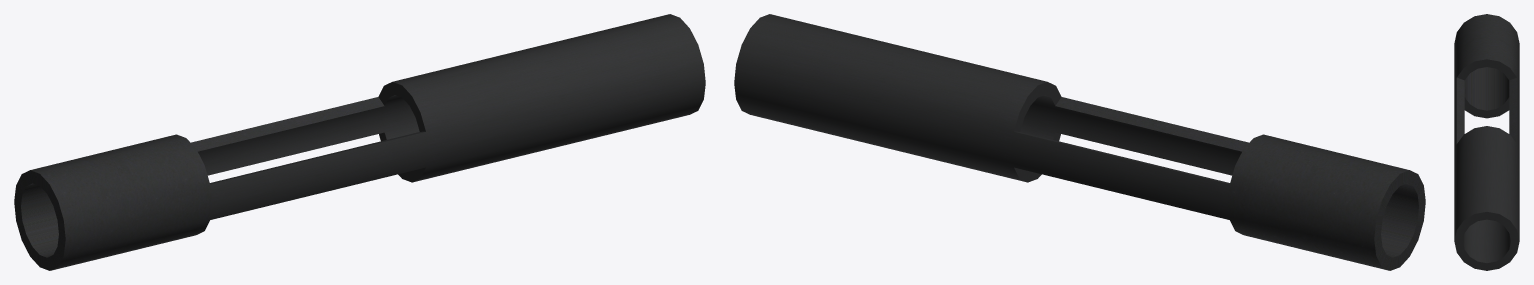
Rendered from Key_and_Bolt_Carrier_Assembly.dae.
3 views of the same model, side by side, from view 1: azimuth 30°, elevation 25°; view 2: azimuth 150°, elevation 25°; view 3: azimuth 270°, elevation 25° (orthographic). The views are drawn at different scales.
Visible parts, largest first — view 1: Key_and_Bolt_Carrier_Assembly; view 2: Key_and_Bolt_Carrier_Assembly; view 3: Key_and_Bolt_Carrier_Assembly.
Part boxes in pixels (x1,y1,x2,y2): Key_and_Bolt_Carrier_Assembly: (14,14,705,270); Key_and_Bolt_Carrier_Assembly: (734,14,1425,270); Key_and_Bolt_Carrier_Assembly: (1454,14,1519,270).
Bounding box in the file's own units: 0.1677 × 0.0234 × 0.0234.
Materials: 1 (1 with a texture image).
